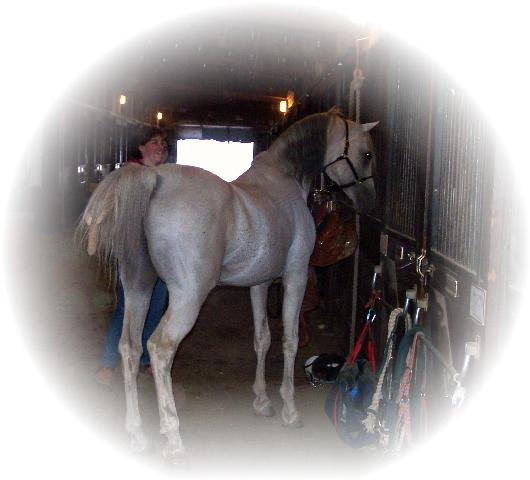horse: (74, 104, 380, 463)
